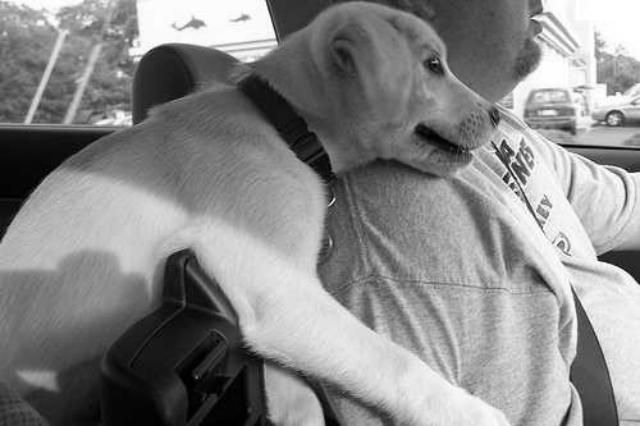Seatbelt: (490, 136, 624, 426)
